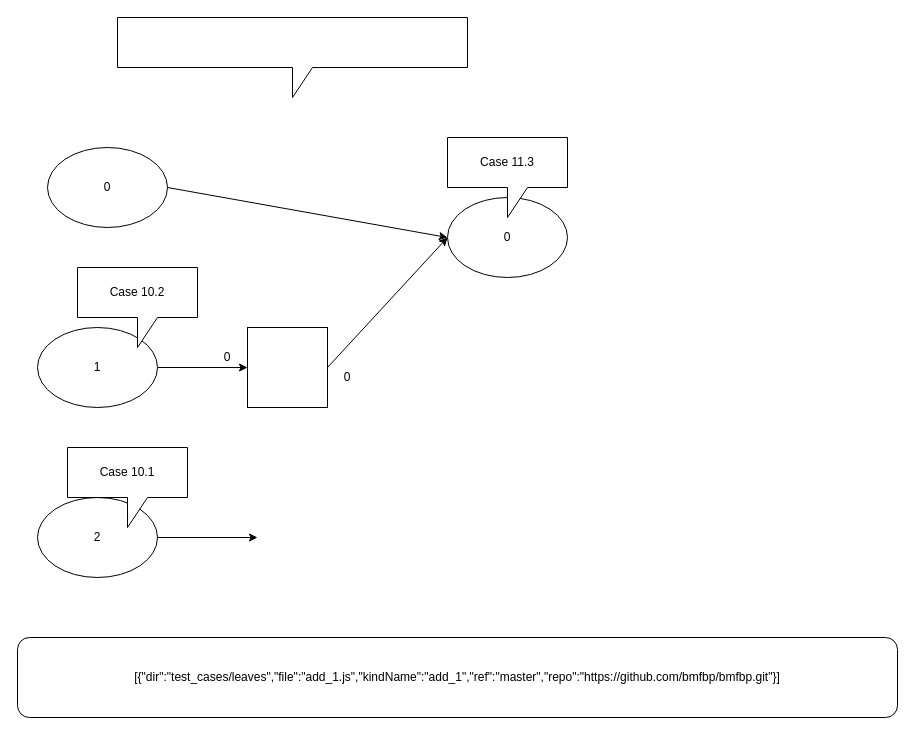
Some shapes in this 915 by 735 pixel diagram are drawn without their labels. The centre of each missing label's shape, as x and y in pixels:
add_1: (x=287, y=367)
This schematic is an example of cases 7.2 and 8.3: (x=292, y=57)
